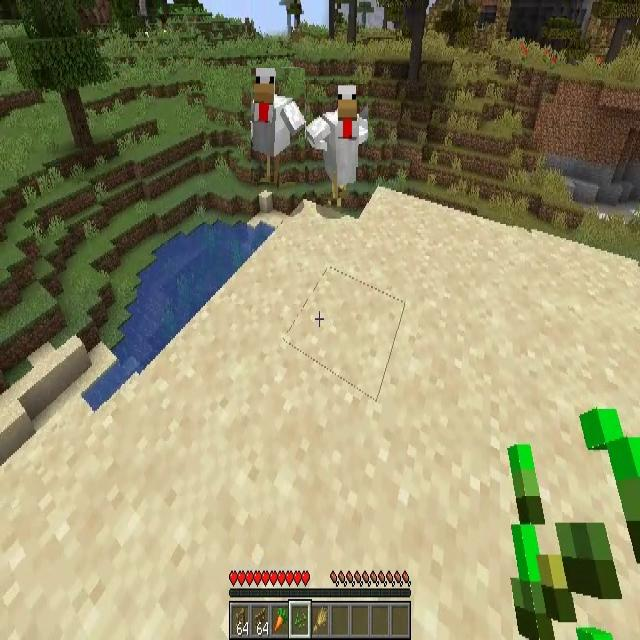duck: (306, 84, 368, 198), (251, 68, 305, 182)
